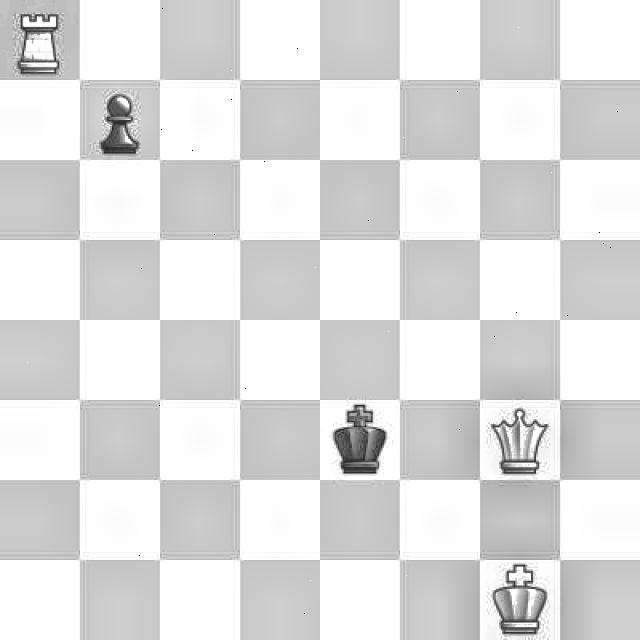black king: (320, 400, 394, 480)
black pawn: (84, 79, 154, 159)
white king: (487, 562, 552, 638)
white queen: (491, 404, 563, 468)
white rook: (8, 6, 64, 78)
